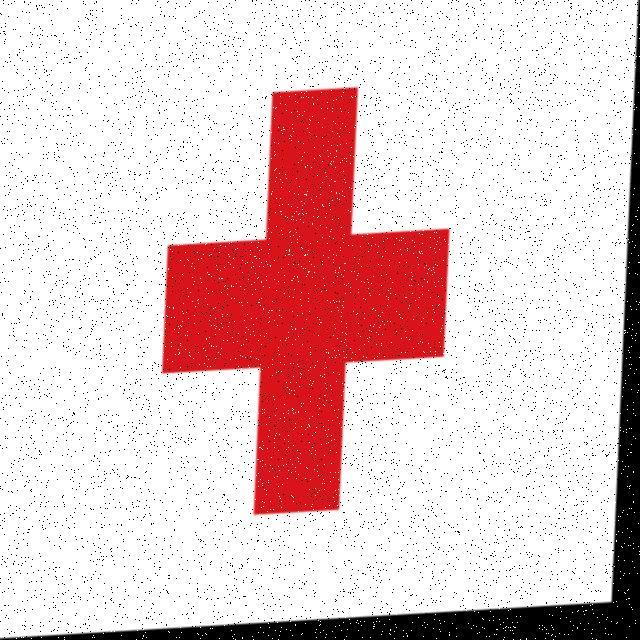cross: (129, 62, 477, 541)
